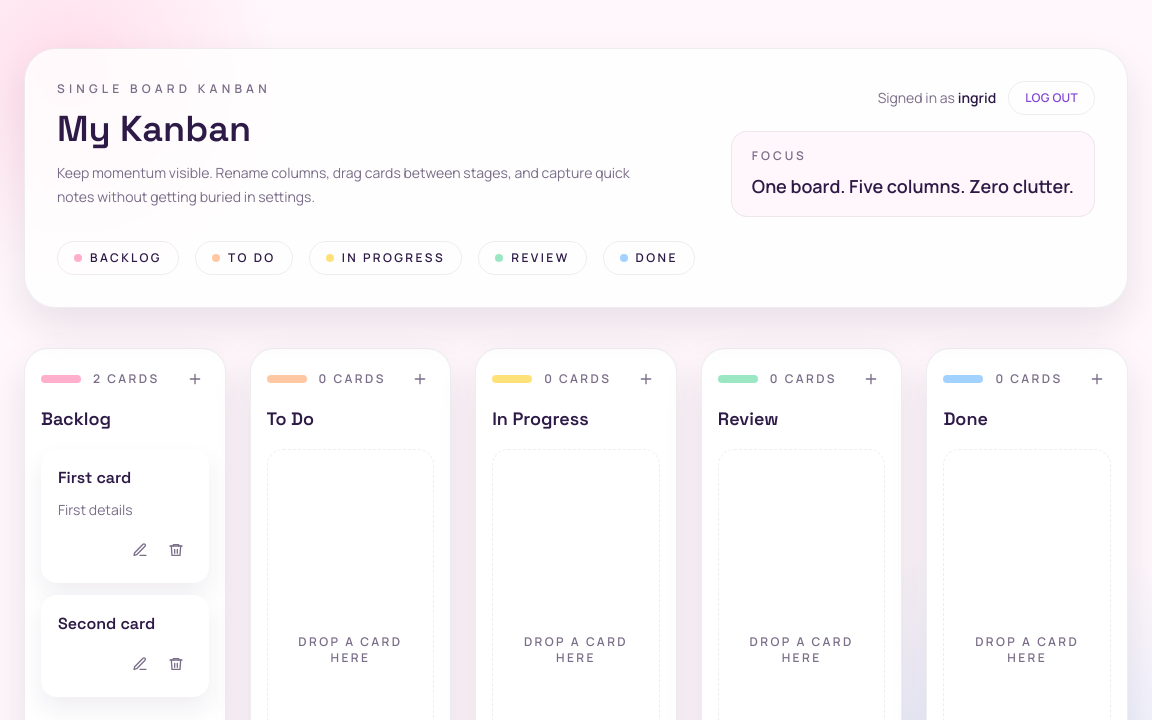
Scenario: KanbanBoard › removes a card and saves it
The image size is (1152, 720).
Click the button named "Delete First card" at (176, 550), box [160,534,192,566]
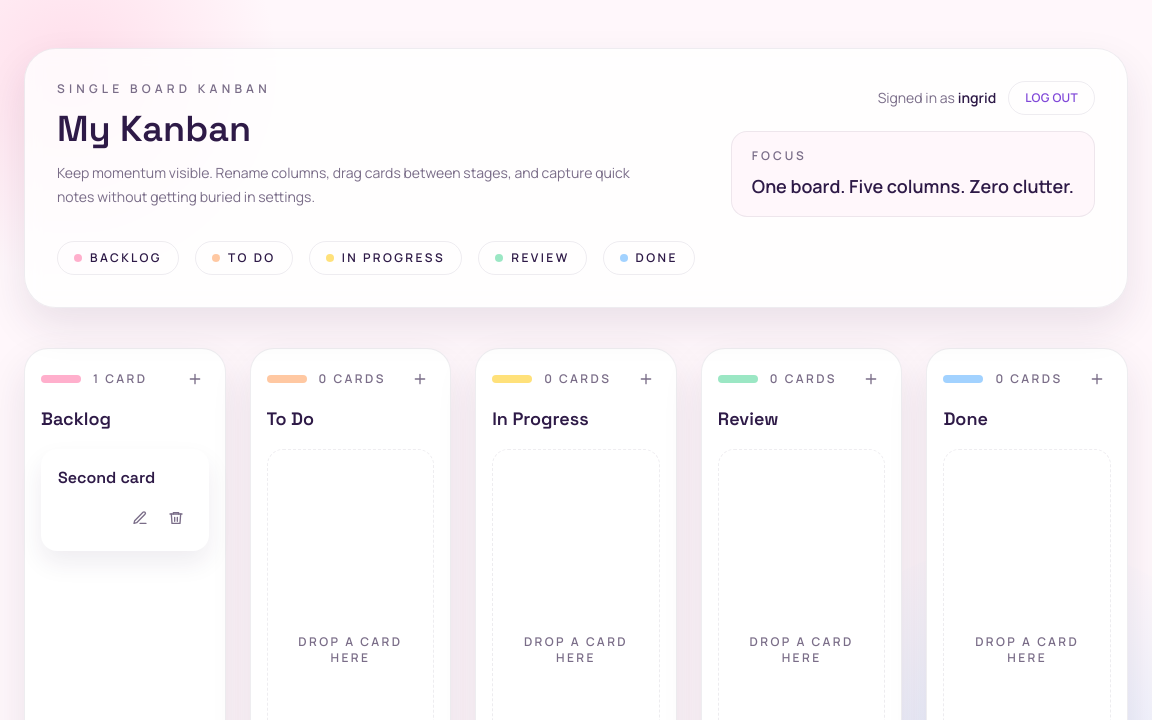
Expected: the button "First card" is gone
